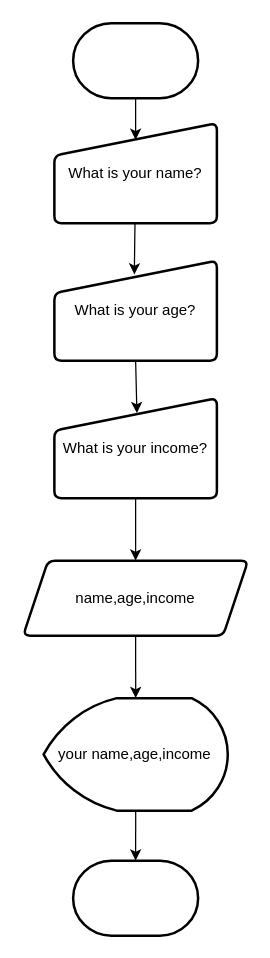
Image size: 270x958. Some labels were removed from this diagram. The centre of each missing label's shape, as x and y in pixels:
End: point (135, 897)
Start: point (135, 60)
